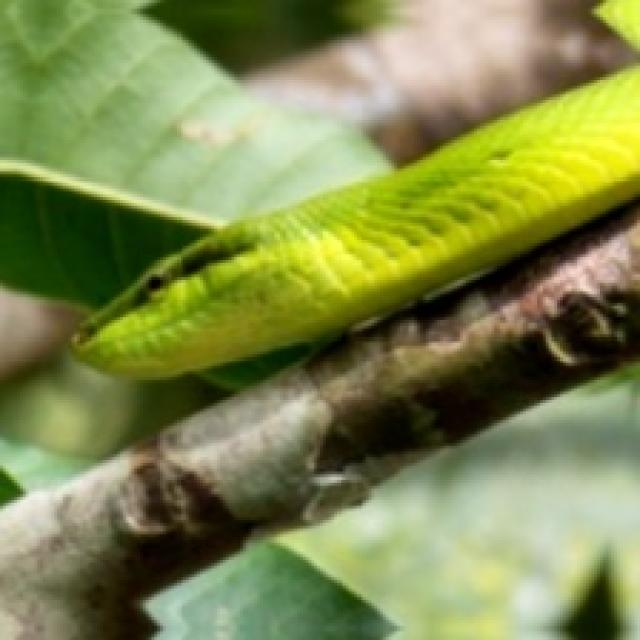red-tailed green ratsnake: (74, 66, 637, 374)
